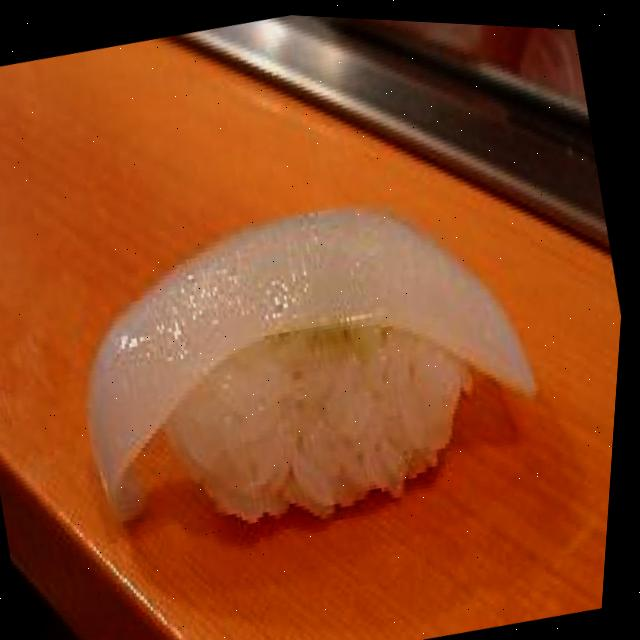寿司卷物: (26, 127, 592, 607)
